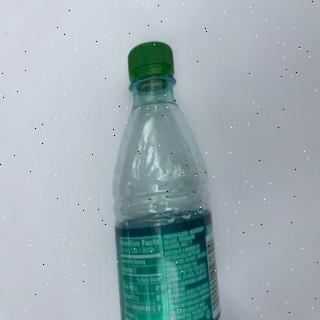Plastic-bottle: (112, 41, 223, 320)
